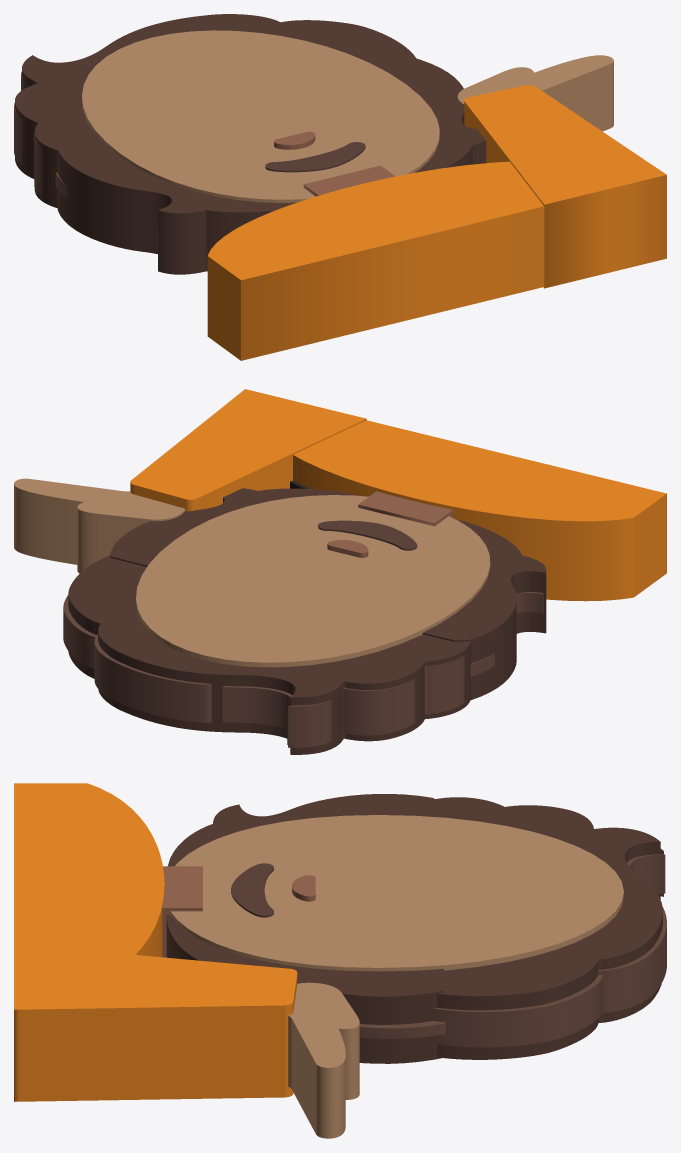
File: emoji_u1f481_1f3fd.glb
3 views of the same model, one above another, from view 1: azimuth 30°, elevation 25°; view 2: azimuth 150°, elevation 25°; view 3: azimuth 270°, elevation 25° (orthographic). The views are drawn at different scales.
Parts seen in each view (by area): view 1: emoji_u1f481_1f3fd; view 2: emoji_u1f481_1f3fd; view 3: emoji_u1f481_1f3fd.
Boxes of the visible parts, <box> form: emoji_u1f481_1f3fd: <box>14,14,666,360</box>; emoji_u1f481_1f3fd: <box>14,389,666,754</box>; emoji_u1f481_1f3fd: <box>14,783,666,1138</box>.
Size of the model in its own units: 0.0334 by 0.0052 by 0.0334.
